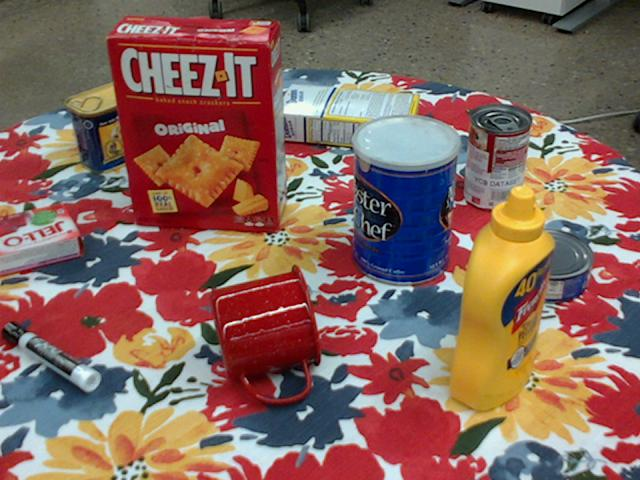cracker_box: (107, 15, 287, 227)
gelatin_box: (0, 203, 84, 277)
large_marker: (1, 320, 99, 391)
master_chef_can: (352, 115, 460, 287)
mug: (209, 264, 324, 404)
mustard_bottle: (450, 185, 553, 411)
potted_meat_can: (65, 77, 156, 172)
sugar_box: (272, 82, 420, 153)
tomato_soup_can: (464, 103, 531, 211)
tuna_fish_can: (503, 229, 593, 304)
